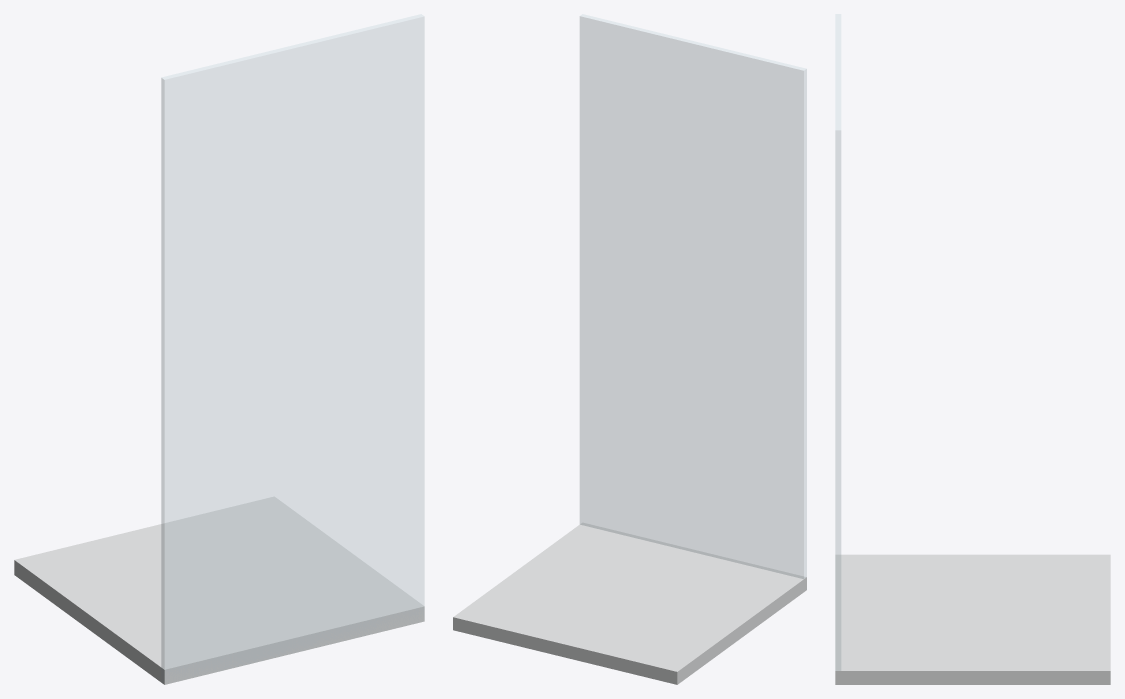
Rendered from bath_shower_090.glb.
3 renders of one model, left to right at view 1: azimuth 30°, elevation 25°; view 2: azimuth 150°, elevation 25°; view 3: azimuth 270°, elevation 25°, orthographic. The views are drawn at different scales.
Visible parts, largest first — view 1: bath_shower_090; view 2: bath_shower_090; view 3: bath_shower_090.
Boxes of the visible parts, x1,y1,x2,y2 form: bath_shower_090: (14,14,424,684); bath_shower_090: (453,14,806,684); bath_shower_090: (835,14,1110,684).
Size of what is drawn, in the model's own units: 0.9 by 2 by 0.9.
